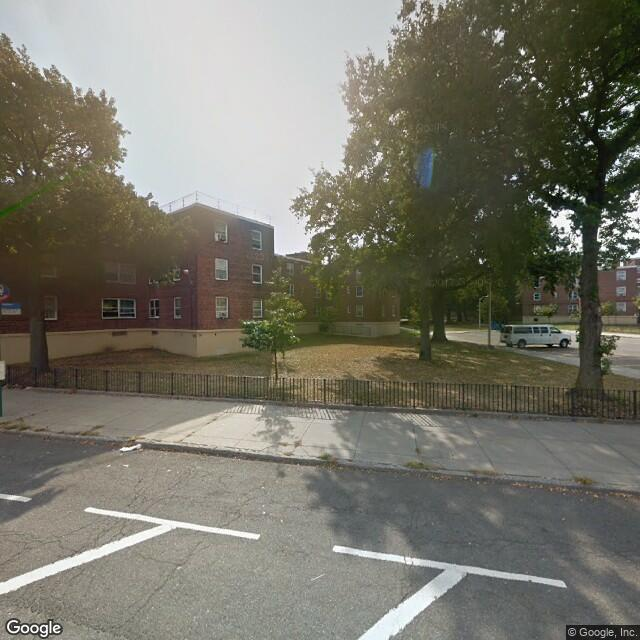litter: (116, 445, 145, 453), (470, 412, 480, 419), (120, 463, 127, 464)
